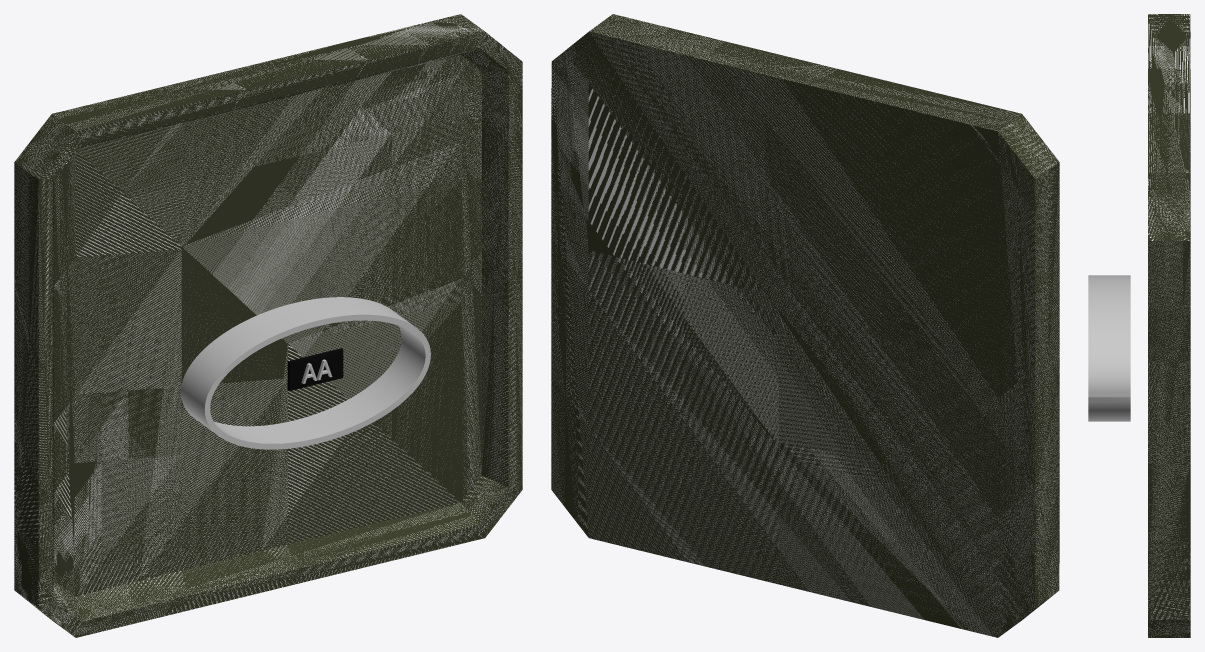
3 renders of one model, left to right at view 1: azimuth 30°, elevation 25°; view 2: azimuth 150°, elevation 25°; view 3: azimuth 270°, elevation 25°, orthographic. The views are drawn at different scales.
Parts seen in each view (by area): view 1: Button.001_ID13, Button_ID3, SM_CM_-_AA_path1763-2.063; view 2: Button_ID3; view 3: Button_ID3, SM_CM_-_AA_path1763-2.063.
Boxes of the visible parts, x1,y1,x2,y2 form: Button.001_ID13: (52,48,508,621); Button_ID3: (14,14,522,637); SM_CM_-_AA_path1763-2.063: (181,297,430,449); Button_ID3: (551,14,1059,637); Button_ID3: (1148,14,1190,637); SM_CM_-_AA_path1763-2.063: (1088,275,1130,421).
Size of the model in its own units: 1 by 1 by 0.207.
